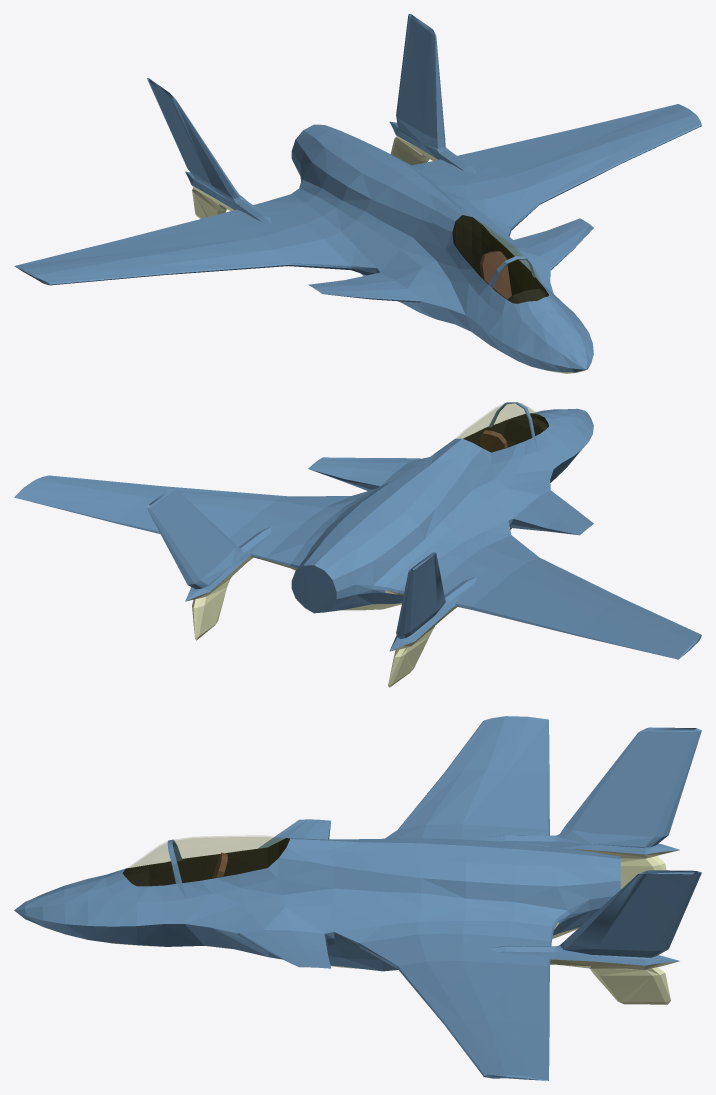
The model's file is aircraft_8.glb.
The picture shows the model from 3 angles, top to bottom: view 1: azimuth 30°, elevation 25°; view 2: azimuth 150°, elevation 25°; view 3: azimuth 270°, elevation 25°; orthographic projection. The views are drawn at different scales.
Visible parts, largest first — view 1: fuselage.001, canopy glass, cockpit interior; view 2: fuselage.001, canopy glass, cockpit interior; view 3: fuselage.001, canopy glass, cockpit interior.
Boxes of the visible parts, bbox=[...] form: fuselage.001: bbox=[14, 14, 701, 373]; canopy glass: bbox=[454, 216, 547, 302]; cockpit interior: bbox=[452, 215, 548, 303]; fuselage.001: bbox=[14, 408, 701, 687]; canopy glass: bbox=[457, 403, 547, 451]; cockpit interior: bbox=[463, 413, 548, 452]; fuselage.001: bbox=[14, 716, 701, 1080]; canopy glass: bbox=[123, 836, 289, 885]; cockpit interior: bbox=[122, 838, 289, 886].
Bounding box in the file's own units: 13.79 × 2.91 × 11.09.
